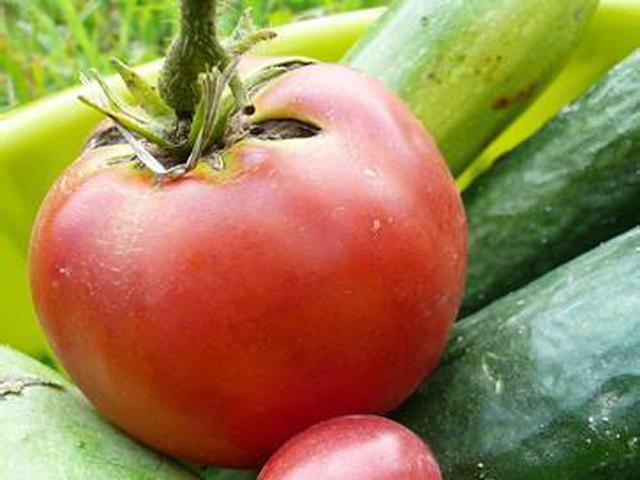tomato: (27, 62, 464, 469)
